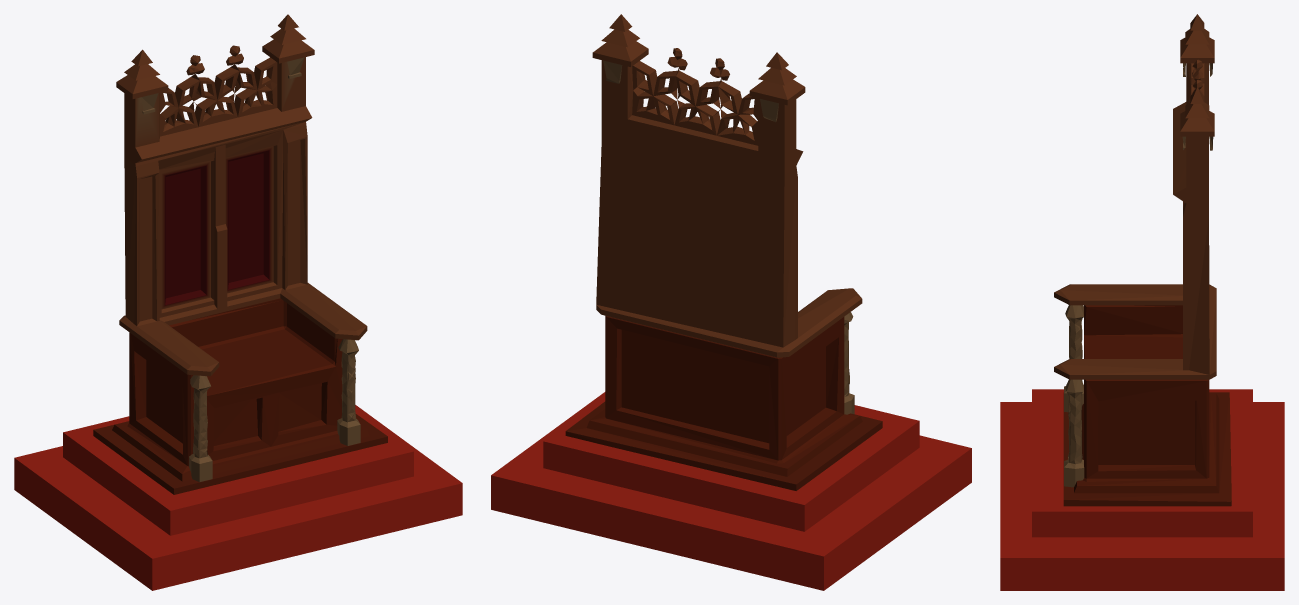
File: kings-throne.lod1.glb
3 renders of one model, left to right at view 1: azimuth 30°, elevation 25°; view 2: azimuth 150°, elevation 25°; view 3: azimuth 270°, elevation 25°, orthographic. The views are drawn at different scales.
Parts seen in each view (by area): view 1: chair_base_UV1304_0; view 2: chair_base_UV1304_0; view 3: chair_base_UV1304_0.
Boxes of the visible parts, <box> form: chair_base_UV1304_0: <box>14,14,462,590</box>; chair_base_UV1304_0: <box>491,14,971,590</box>; chair_base_UV1304_0: <box>1000,14,1284,590</box>.
Bounding box in the file's own units: 1.87 × 2.6 × 1.44.
